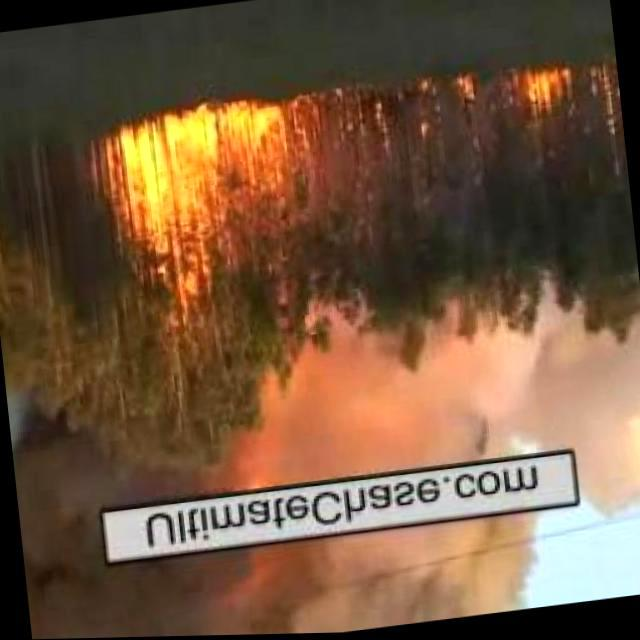fire: (98, 90, 302, 272), (514, 66, 578, 122), (303, 91, 357, 153), (600, 66, 618, 134), (451, 78, 473, 102)
